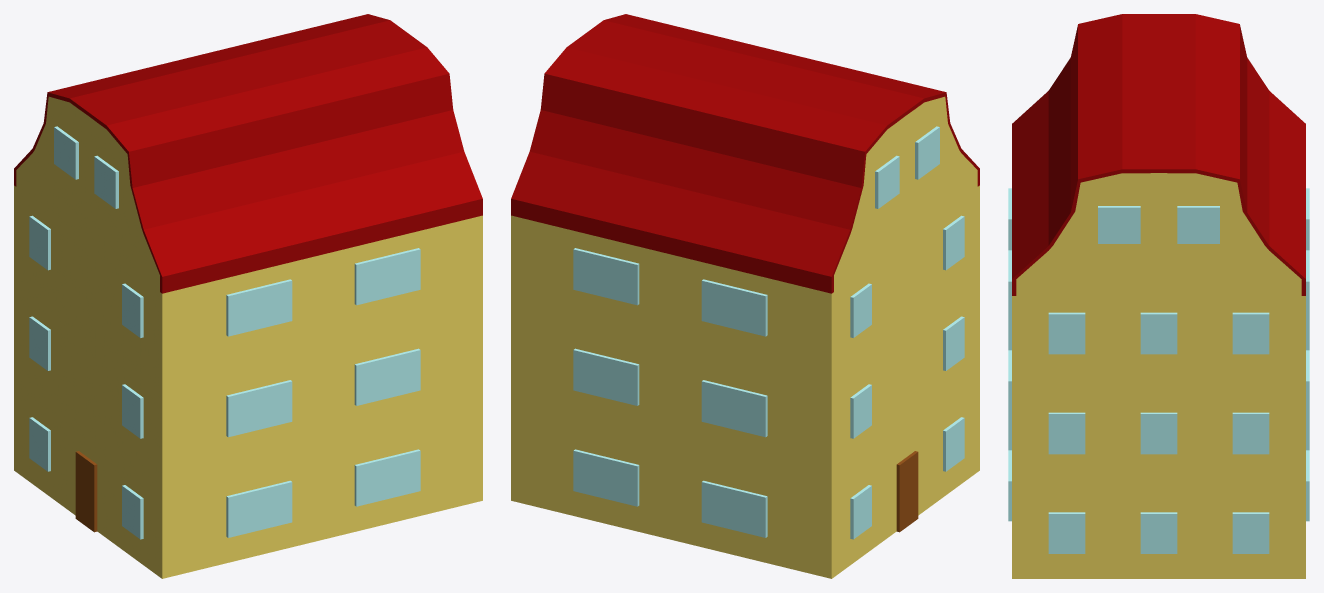
File: house7.fbx
3 views of the same model, side by side, from view 1: azimuth 30°, elevation 25°; view 2: azimuth 150°, elevation 25°; view 3: azimuth 270°, elevation 25° (orthographic).
Parts seen in each view (by area): view 1: House7; view 2: House7; view 3: House7.
Boxes of the visible parts, box(x1,y1,x2,y2) form: House7: box(14, 14, 482, 578); House7: box(511, 14, 979, 578); House7: box(1008, 14, 1309, 578).
Bounding box in the file's own units: 1530 × 1845 × 1230.
